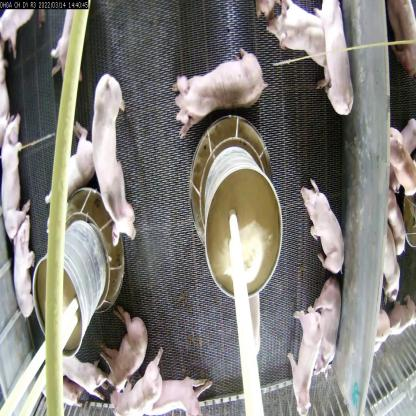Pig: (88, 67, 151, 237), (171, 46, 267, 149), (292, 176, 364, 286), (98, 296, 155, 394), (318, 4, 362, 112), (256, 0, 329, 62), (284, 308, 325, 415), (5, 209, 44, 316), (0, 108, 32, 236), (57, 336, 114, 404), (47, 0, 92, 86), (108, 356, 168, 415), (316, 277, 348, 373), (150, 379, 218, 416)
